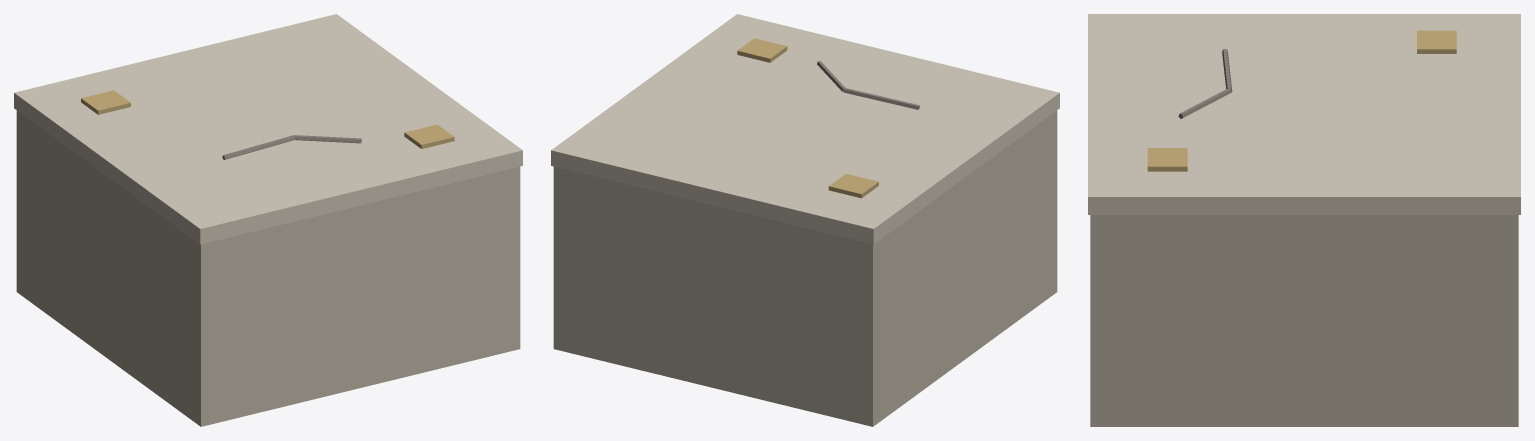
File: muro_bloque.glb
3 views of the same model, side by side, from view 1: azimuth 30°, elevation 25°; view 2: azimuth 150°, elevation 25°; view 3: azimuth 270°, elevation 25° (orthographic). The views are drawn at different scales.
Parts seen in each view (by area): view 1: muro_bloque; view 2: muro_bloque; view 3: muro_bloque.
Part boxes in pixels (left/top/right/bottom): muro_bloque: left=14, top=14, right=522, bottom=426; muro_bloque: left=551, top=14, right=1059, bottom=426; muro_bloque: left=1088, top=14, right=1520, bottom=426.
Size of the model in its own units: 0.98 by 0.6117 by 0.98.
